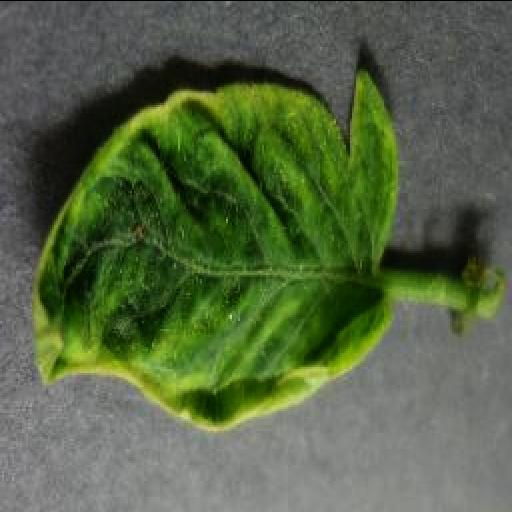disease_tomato: (29, 68, 403, 432)
